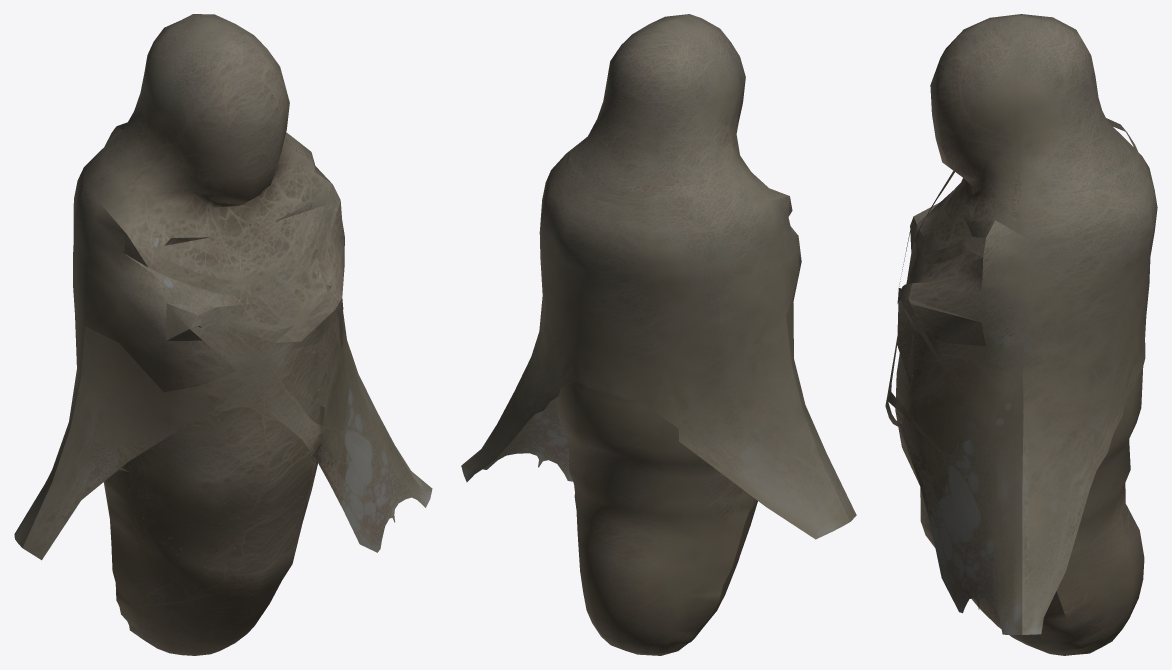
File: koza.fbx
The picture shows the model from 3 angles, left to right: view 1: azimuth 30°, elevation 25°; view 2: azimuth 150°, elevation 25°; view 3: azimuth 270°, elevation 25°; orthographic projection. The views are drawn at different scales.
Visible parts, largest first — view 1: koza; view 2: koza; view 3: koza.
Boxes of the visible parts, left/top/right/bottom form: koza: left=14, top=14, right=432, bottom=655; koza: left=461, top=14, right=856, bottom=655; koza: left=885, top=14, right=1157, bottom=655.
Size of the model in its own units: 120 by 70.22 by 180.
1 material, 1 textured.
